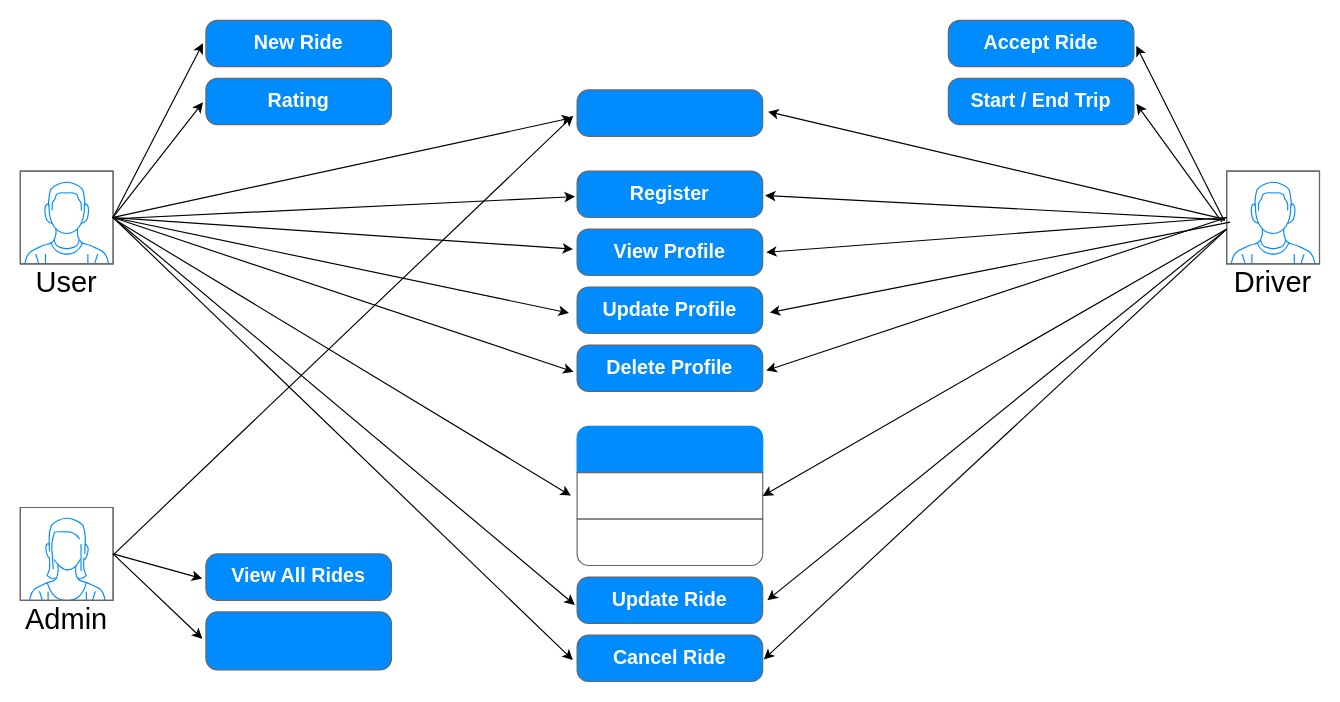
This 1340x702 diagram has some shape labels left out. Here are the shapes that lost their labels. From the top down, the box of each, then its label:
(576, 89, 763, 136): Login / Logout
(576, 425, 763, 473): View Ride
(576, 472, 763, 519): User Profile
(576, 518, 763, 566): Driver Profile
(205, 611, 392, 670): Manage User & Driver
